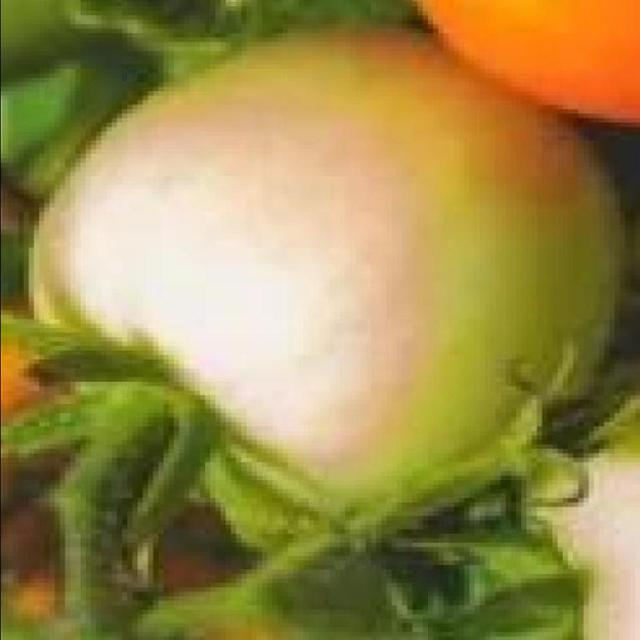Sunscald Fruit: (62, 109, 390, 372)
